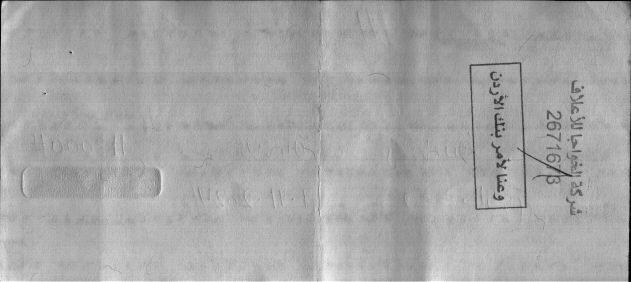stamp: (468, 62, 528, 215)
